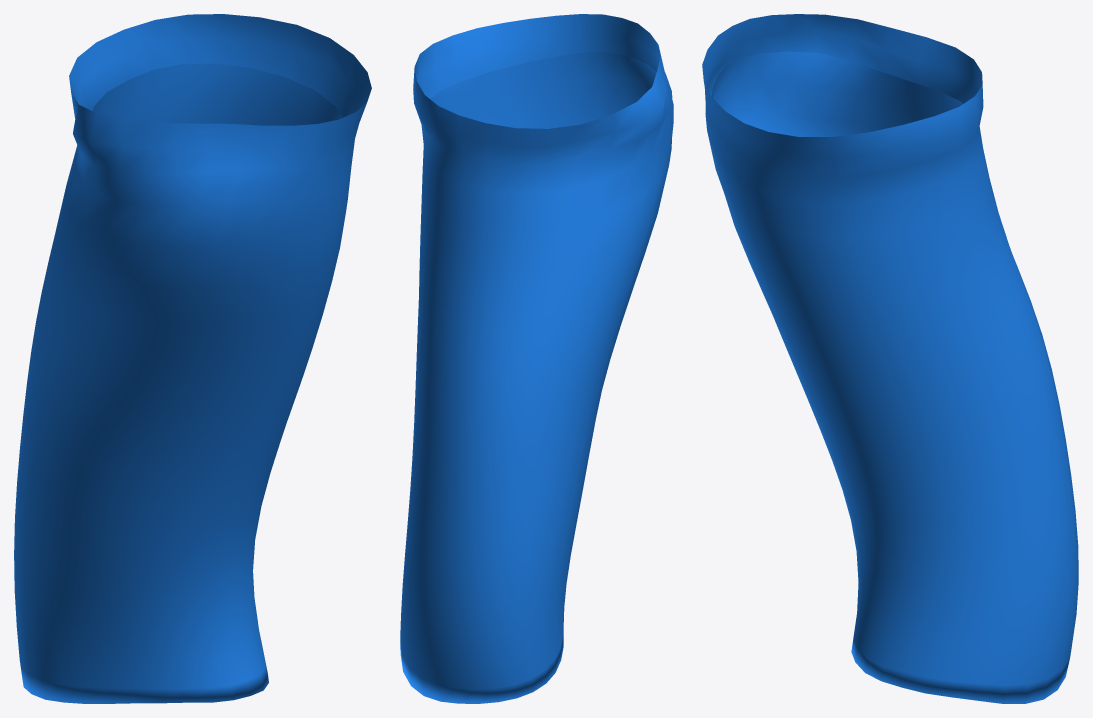
Rendered from right_atrium_blood2.glb.
3 views of the same model, side by side, from view 1: azimuth 30°, elevation 25°; view 2: azimuth 150°, elevation 25°; view 3: azimuth 270°, elevation 25° (orthographic). The views are drawn at different scales.
Parts seen in each view (by area): view 1: Rightatrium.007; view 2: Rightatrium.007; view 3: Rightatrium.007.
Part boxes in pixels (left/top/right/bottom): Rightatrium.007: left=14, top=14, right=371, bottom=703; Rightatrium.007: left=400, top=14, right=673, bottom=703; Rightatrium.007: left=702, top=14, right=1078, bottom=703.
Size of the model in its own units: 0.7529 by 1.84 by 1.01.
